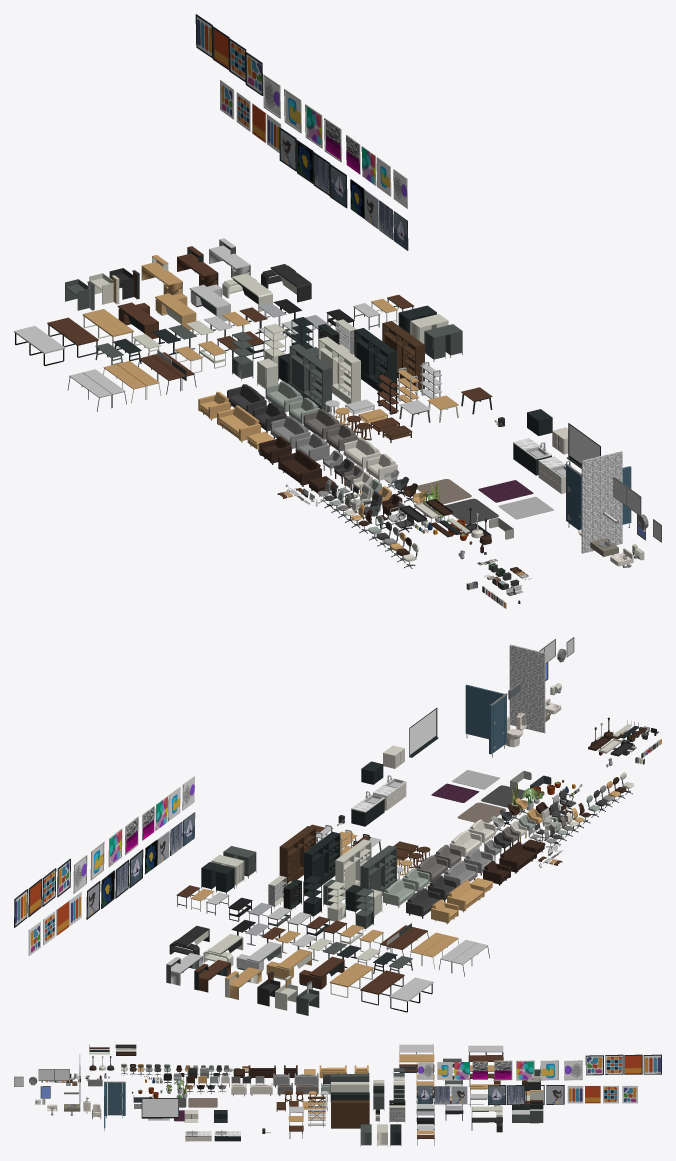
File: office.fbx
The picture shows the model from 3 angles, top to bottom: view 1: azimuth 30°, elevation 25°; view 2: azimuth 150°, elevation 25°; view 3: azimuth 270°, elevation 25°; orthographic projection. The views are drawn at different scales.
Visible parts, largest first — view 1: divider, white monsieur shelf, light gray monsieur shelf, dark gray monsieur shelf, big book shelf monsieur shelf, gary paire, light décrocher sofa, dark décrocher chair, yellow travail, brown travail, white bord, yellow enquêterdesk (+5 smaller); view 2: divider, stall wall, dark gray monsieur shelf, light gray monsieur shelf, big book shelf monsieur shelf, white monsieur shelf, white bord, dark gary paire, light décrocher sofa, dark décrocher chair, brown travail, red enquêterdesk (+17 smaller); view 3: big book shelf monsieur shelf, white bord, stall door, brown enquêterdesk, white monsieur shelf, art framed .007, art framed .006, art framed .008, art framed .005, art framed .024, art framed .023, art framed .022 (+45 smaller).
Part boxes in pixels (<box>): divider: <box>581,451,622,553</box>; white monsieur shelf: <box>318,336,360,403</box>; light gray monsieur shelf: <box>289,344,331,412</box>; dark gray monsieur shelf: <box>354,328,396,396</box>; big book shelf monsieur shelf: <box>382,321,424,390</box>; gary paire: <box>424,324,462,361</box>; light décrocher sofa: <box>217,405,260,442</box>; dark décrocher chair: <box>278,450,321,486</box>; yellow travail: <box>103,361,161,403</box>; brown travail: <box>67,369,126,411</box>; white bord: <box>567,423,600,468</box>; yellow enquêterdesk: <box>141,255,182,295</box>; divider: <box>509,644,545,733</box>; stall wall: <box>465,684,504,739</box>; dark gray monsieur shelf: <box>304,831,340,889</box>; light gray monsieur shelf: <box>360,845,397,895</box>; big book shelf monsieur shelf: <box>279,826,315,885</box>; white monsieur shelf: <box>335,839,371,899</box>; white bord: <box>409,708,438,757</box>; dark gary paire: <box>201,862,234,893</box>; light décrocher sofa: <box>447,880,484,912</box>; dark décrocher chair: <box>499,841,536,873</box>; brown travail: <box>439,940,489,976</box>; red enquêterdesk: <box>194,960,230,992</box>; big book shelf monsieur shelf: <box>331,1100,369,1128</box>; white bord: <box>141,1098,178,1118</box>; stall door: <box>108,1083,122,1115</box>; brown enquêterdesk: <box>512,1109,543,1123</box>; white monsieur shelf: <box>331,1082,369,1092</box>; art framed .007: <box>564,1060,582,1080</box>; art framed .006: <box>516,1060,534,1080</box>; art framed .008: <box>540,1060,558,1080</box>; art framed .005: <box>494,1060,512,1080</box>; art framed .024: <box>643,1054,661,1074</box>; art framed .023: <box>624,1054,642,1074</box>; art framed .022: <box>605,1054,623,1074</box>.
Size of the model in its own units: 2069 by 1009 by 5986.
